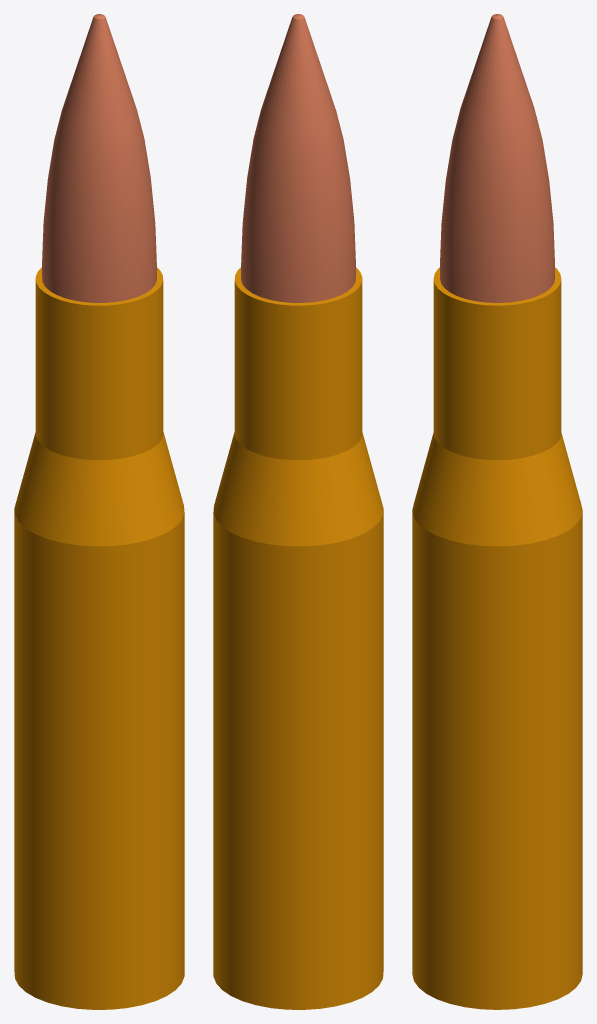
The model's file is AmmoMesh.fbx.
3 renders of one model, left to right at view 1: azimuth 30°, elevation 25°; view 2: azimuth 150°, elevation 25°; view 3: azimuth 270°, elevation 25°, orthographic.
Visible parts, largest first — view 1: AmmoMesh; view 2: AmmoMesh; view 3: AmmoMesh.
Boxes of the visible parts, x1,y1,x2,y2 form: AmmoMesh: (14,14,184,1009); AmmoMesh: (213,14,383,1009); AmmoMesh: (412,14,582,1009).
Size of the model in its own units: 6.25 by 38.75 by 6.25.
